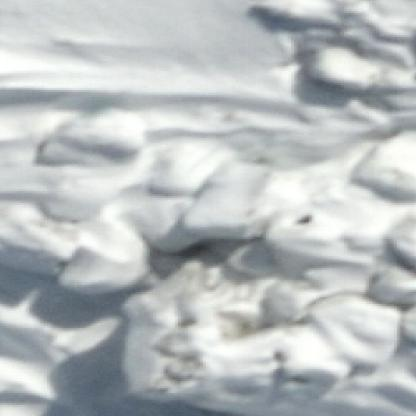polar-bear: (221, 310, 254, 337)
